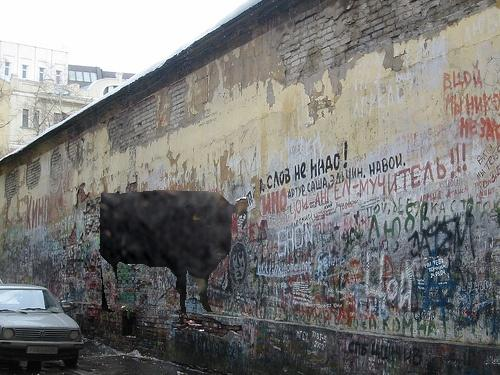tampered: (100, 191, 248, 321)
